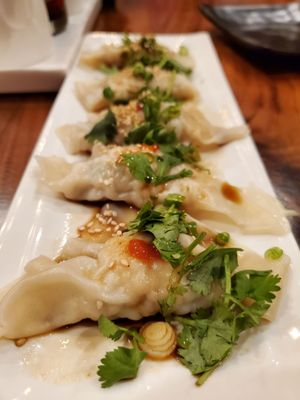curry: (125, 194, 200, 266)
sushi: (198, 0, 300, 68)
